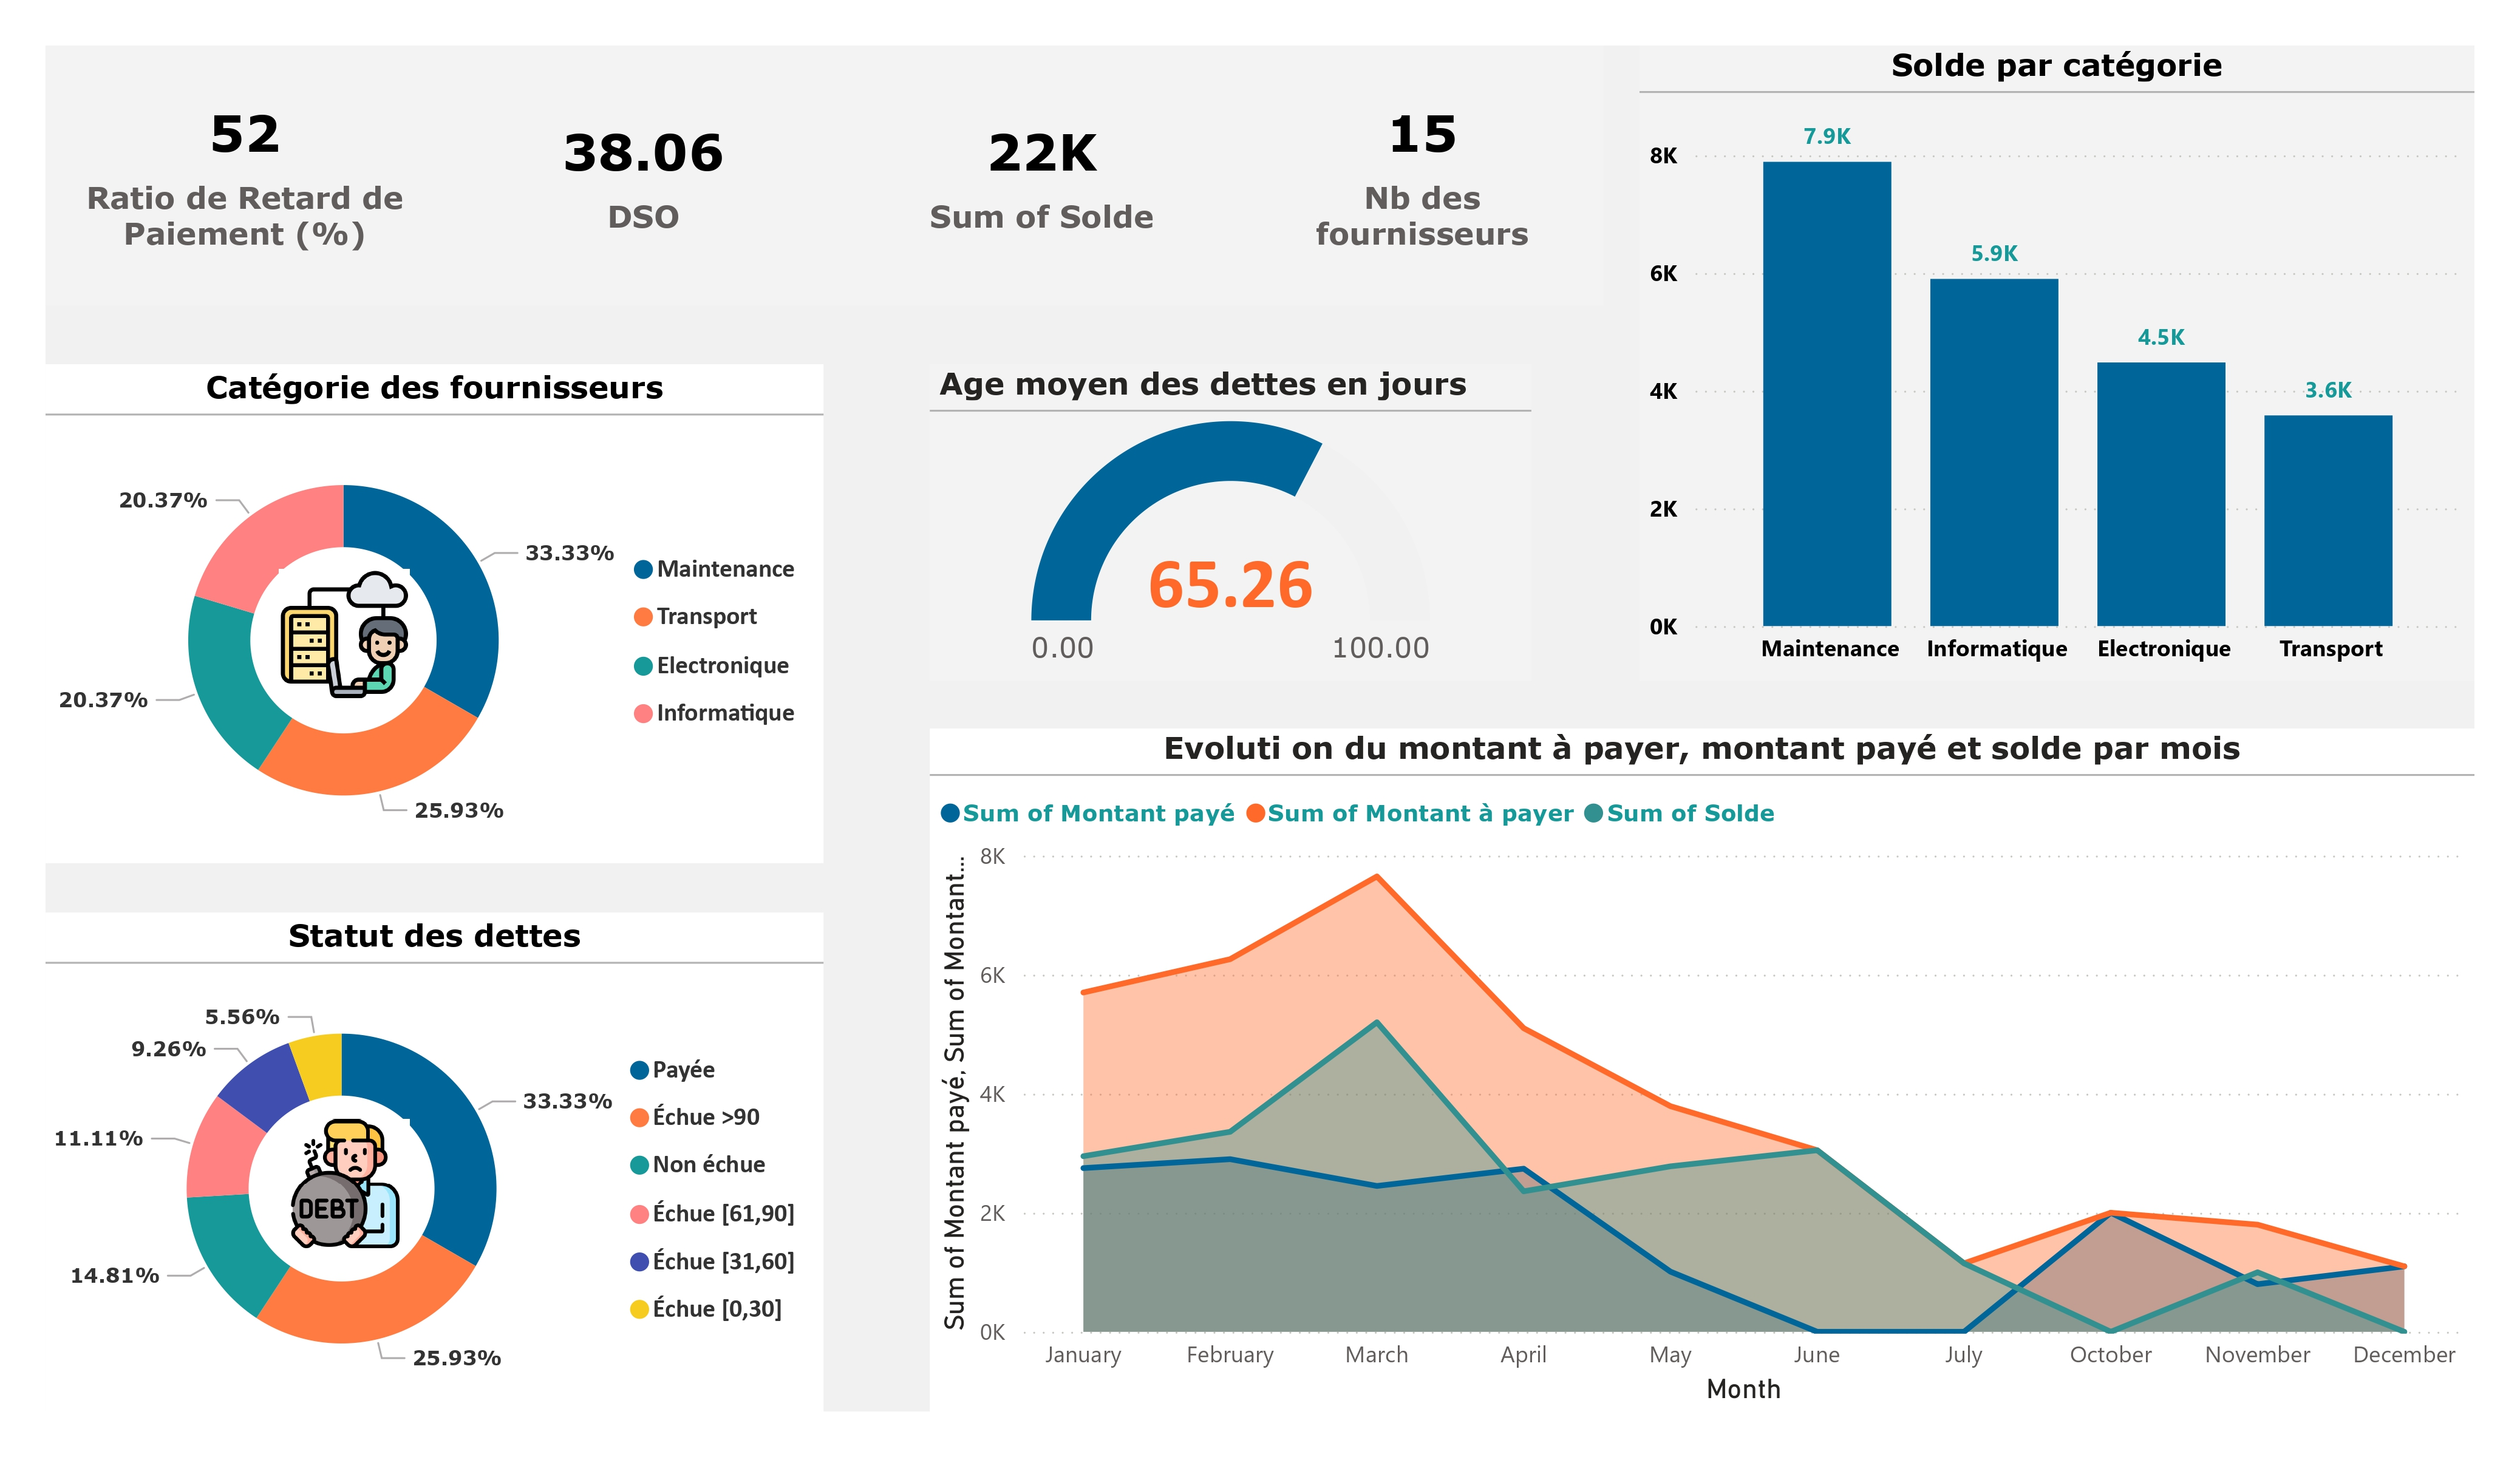

What the dashboard file says about the page in this screenshot:
{"tool":"powerbi","page":{"name":"Dettes","canvas":[1280,720],"ordinal":2},"visuals":[{"type":"cardVisual","fields":{"Data":["Dettes fournisseurs.Ratio de Retard de Paiement (%)"]},"box":[0,0,210.1,136.7],"z":0},{"type":"cardVisual","fields":{"Data":["Dettes fournisseurs.DSO"]},"box":[210.1,0,210.1,136.7],"z":1000},{"type":"cardVisual","fields":{"Data":["Dettes fournisseurs.Nb des fournisseurs"]},"box":[630.4,0,191,136.7],"z":2000},{"type":"columnChart","title":"Solde par catégorie","fields":{"Category":["Dettes fournisseurs.Catégorie"],"Y":["Sum(Dettes fournisseurs.Solde)"]},"box":[840.5,0,439.3,335],"z":3000},{"type":"cardVisual","fields":{"Data":["Sum(Dettes fournisseurs.Solde)"]},"box":[420.2,0,210.1,136.7],"z":4000},{"type":"donutChart","title":"Catégorie des fournisseurs","fields":{"Y":["CountNonNull(Dettes fournisseurs.Fournisseur)"],"Category":["Dettes fournisseurs.Catégorie"]},"box":[0,167.5,410,263],"z":5000},{"type":"donutChart","title":"Statut des dettes","fields":{"Category":["Dettes fournisseurs.Statut"],"Y":["CountNonNull(Dettes fournisseurs.Statut)"]},"box":[0,457,410,263],"z":6000},{"type":"areaChart","title":"Evoluti on du montant à payer, montant payé et solde par mois","fields":{"Y":["Sum(Dettes fournisseurs.Montant payé)","Sum(Dettes fournisseurs.Montant à payer)","Sum(Dettes fournisseurs.Solde)"],"Category":["Dettes fournisseurs.Date de facture.Variation.Date Hierarchy.Month"]},"box":[465.8,360,814,360],"z":7000},{"type":"gauge","title":"Age moyen des dettes en jours","fields":{"Y":["Avg(Dettes fournisseurs.Age moyen des dettes en jours)"]},"box":[465.8,167.5,317.4,167.5],"z":8000},{"type":"image","box":[117.6,270.4,79.3,79.3],"z":9000},{"type":"image","box":[117.6,561.3,79.3,77.9],"z":10000}]}

Visuals, with their boxes on the page's 1280x720 design canvas (x1, y1, x2, y2). These are canvas units, not pixel positions in the 2520x1457 screenshot, which may show the page scaled, cropped or inside an application window:
cardVisual - Dettes fournisseurs.Ratio de Retard de Paiement (%): x1=0, y1=0, x2=210, y2=137
cardVisual - Dettes fournisseurs.DSO: x1=210, y1=0, x2=420, y2=137
cardVisual - Dettes fournisseurs.Nb des fournisseurs: x1=630, y1=0, x2=821, y2=137
"Solde par catégorie" columnChart: x1=840, y1=0, x2=1280, y2=335
cardVisual - Sum(Dettes fournisseurs.Solde): x1=420, y1=0, x2=630, y2=137
"Catégorie des fournisseurs" donutChart: x1=0, y1=168, x2=410, y2=430
"Statut des dettes" donutChart: x1=0, y1=457, x2=410, y2=720
"Evoluti on du montant à payer, montant payé et solde par mois" areaChart: x1=466, y1=360, x2=1280, y2=720
"Age moyen des dettes en jours" gauge: x1=466, y1=168, x2=783, y2=335
image: x1=118, y1=270, x2=197, y2=350
image: x1=118, y1=561, x2=197, y2=639
